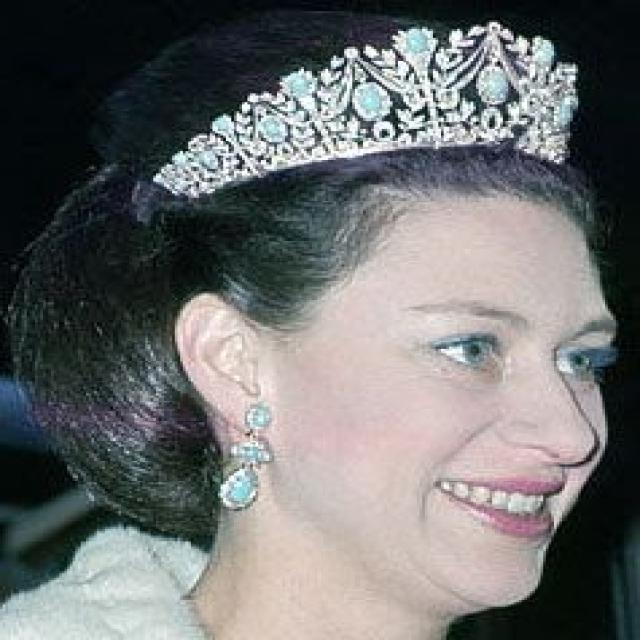Earring: (213, 384, 293, 514)
